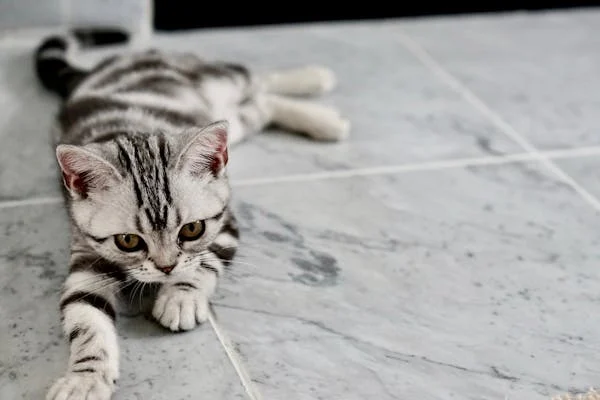Cat: (35, 27, 350, 400)
